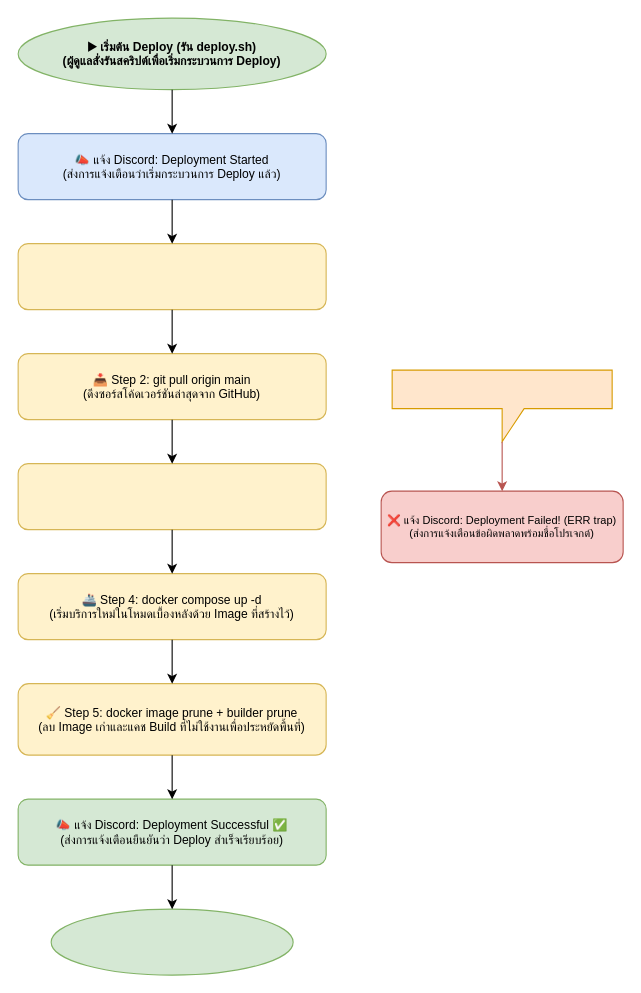
Some shapes in this 641 by 993 pixel diagram are drawn without their labels. The shapes that lost their labels are listed below. From the top down, each one's centre as x and y in pixels, then its label:
At (x=171, y=276): "🛑 Step 1: docker compose down (หยุดและลบคอนเทนเนอร์ชุดเก่าออกทั้งหมด)".
At (x=501, y=405): "⚠️ เกิด Error ตรงขั้นตอนใดก็ตาม (set -e ตรวจจับและ trigger ERR trap ทันที)".
At (x=171, y=496): "🏗️ Step 3: docker compose build (สร้าง Docker Image ใหม่จากซอร์สโค้ดที่ดึงมา)".
At (x=171, y=941): "⏹ จบกระบวนการ (ระบบพร้อมให้บริการเวอร์ชันใหม่)".
